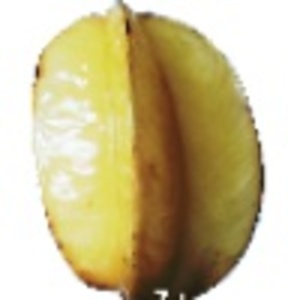carambola: (30, 1, 266, 300)
